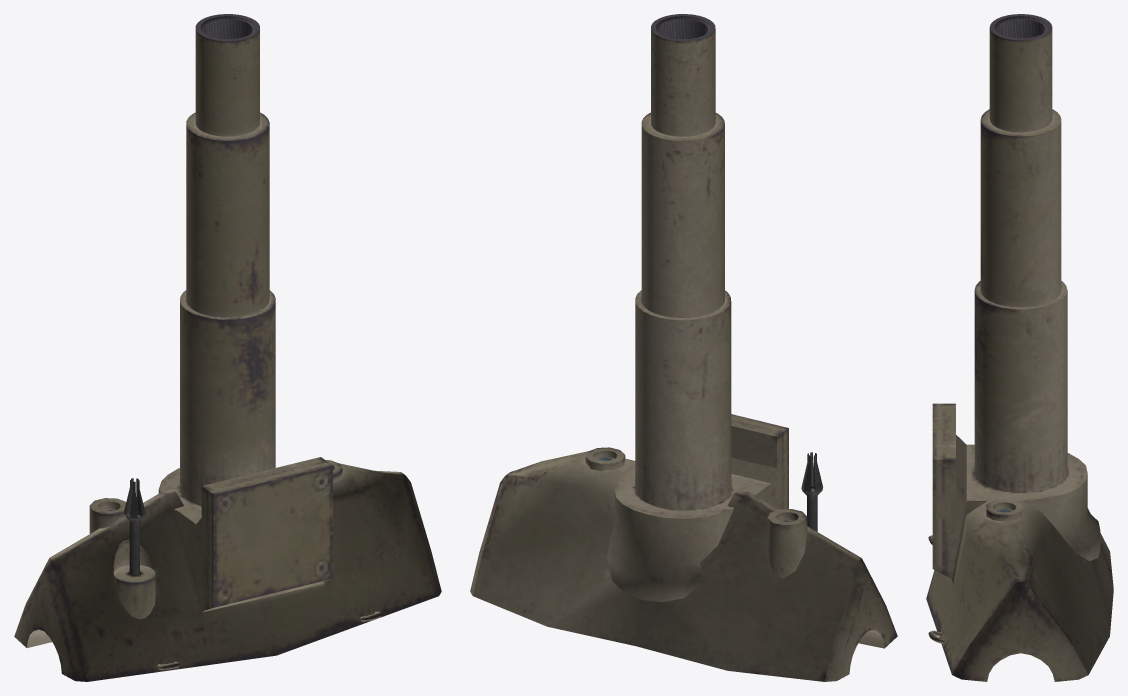
File: Gun_02.glb
The picture shows the model from 3 angles, left to right: view 1: azimuth 30°, elevation 25°; view 2: azimuth 150°, elevation 25°; view 3: azimuth 270°, elevation 25°; orthographic projection. The views are drawn at different scales.
Visible parts, largest first — view 1: set_0_group_0; view 2: set_0_group_0; view 3: set_0_group_0.
Part boxes in pixels (<box>): set_0_group_0: <box>14,14,441,681</box>; set_0_group_0: <box>470,14,897,681</box>; set_0_group_0: <box>926,14,1113,681</box>.
Bounding box in the file's own units: 1.26 × 1.97 × 0.5793.
Materials: 1 (1 with a texture image).
